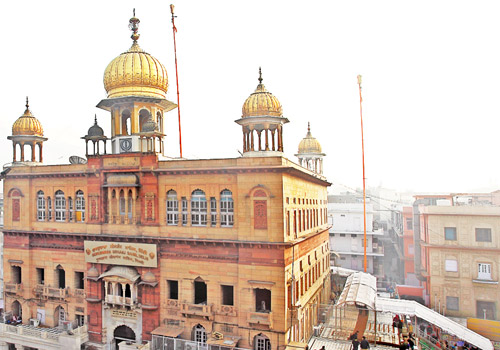Gurdwara: (15, 8, 319, 348)
